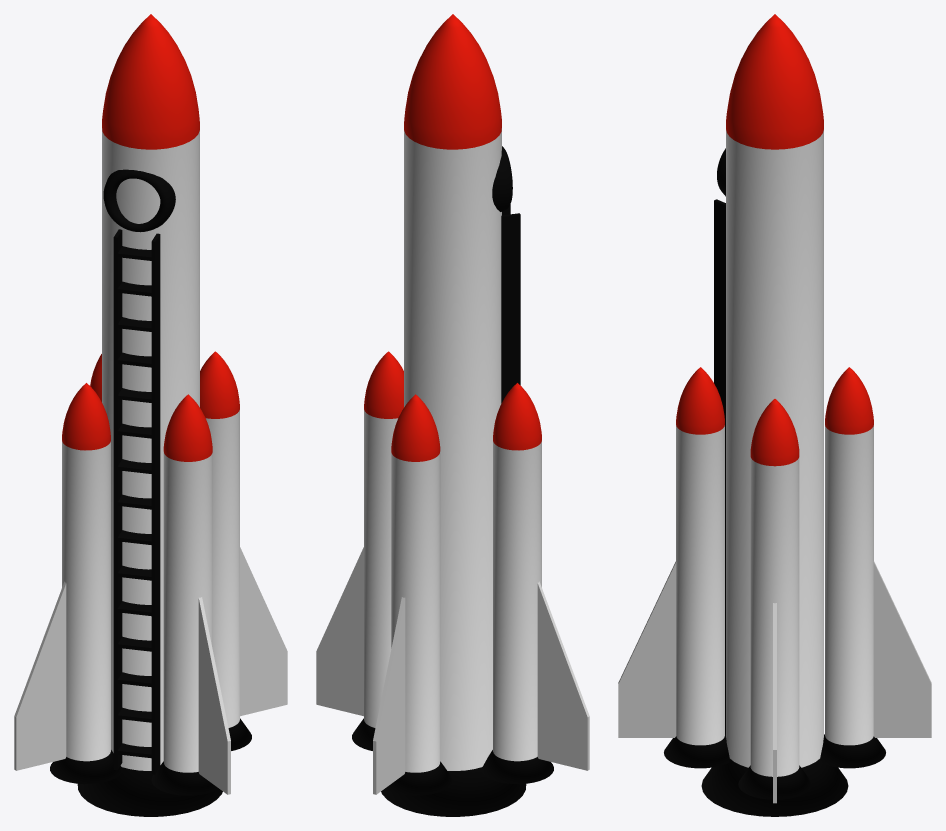
File: SpaceRocket.glb
The picture shows the model from 3 angles, left to right: view 1: azimuth 30°, elevation 25°; view 2: azimuth 150°, elevation 25°; view 3: azimuth 270°, elevation 25°; orthographic projection.
Parts seen in each view (by area): view 1: Rocket, Booster3, Booster1, Ladder, Booster4, Wing3, Wing1, Wing2, Window; view 2: Rocket, Booster3, Booster2, Booster4, Wing3, Wing1, Wing4, Ladder, Window; view 3: Rocket, Booster1, Booster2, Booster4, Wing2, Wing4, Ladder, Wing1.
Part boxes in pixels (box(x1,y1,x2,y2)): Rocket: box(77, 14, 222, 816); Booster3: box(50, 383, 122, 784); Booster1: box(151, 394, 218, 795); Ladder: box(113, 229, 160, 774); Booster4: box(200, 351, 251, 750); Wing3: box(14, 581, 66, 770); Wing1: box(240, 547, 287, 716); Wing2: box(198, 597, 230, 794); Window: box(103, 169, 175, 232); Rocket: box(381, 14, 526, 816); Booster3: box(481, 383, 553, 784); Booster2: box(385, 394, 452, 795); Booster4: box(352, 351, 403, 750); Wing3: box(537, 581, 589, 770); Wing1: box(316, 547, 363, 716); Wing4: box(373, 597, 405, 794); Ladder: box(501, 204, 520, 403); Window: box(492, 146, 512, 211); Rocket: box(701, 14, 848, 816); Booster1: box(664, 367, 729, 768); Booster2: box(820, 367, 885, 768); Booster4: box(738, 399, 811, 799); Wing2: box(618, 561, 676, 737); Wing4: box(873, 561, 931, 737); Ladder: box(714, 199, 725, 734); Wing1: box(773, 603, 776, 803).
Size of the model in its own units: 16 by 43.48 by 16.
